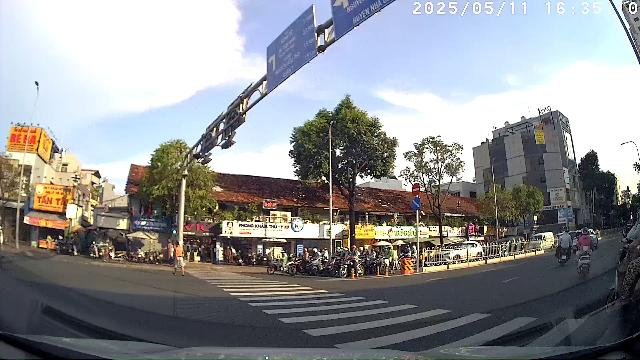102-cam-di-nguoc-chieu: (412, 182, 420, 196)
302a-huong-phai-di-vong-chuong-ngai-vat-1: (412, 196, 421, 210)
